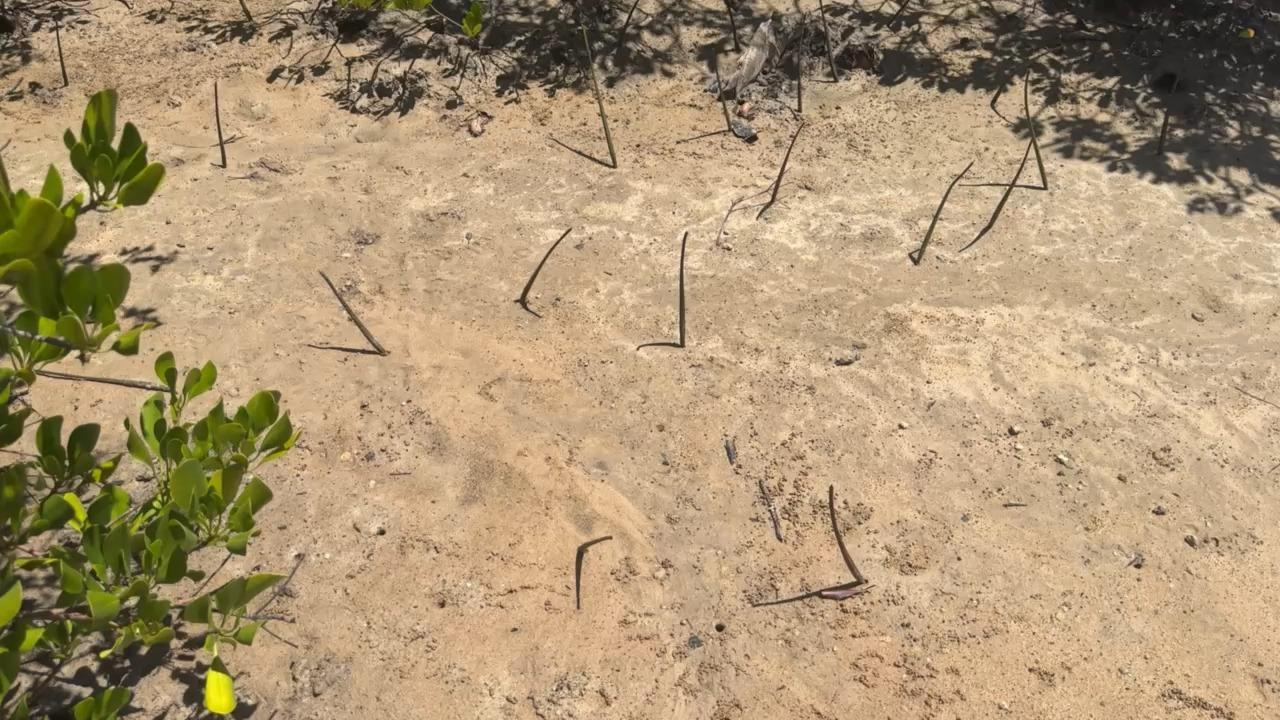Tree: (316, 268, 389, 356), (914, 161, 976, 264), (579, 20, 619, 170), (989, 45, 1065, 109), (518, 227, 573, 305), (828, 483, 869, 585), (770, 122, 806, 205), (1025, 67, 1049, 191), (1155, 62, 1184, 157), (711, 45, 735, 132), (819, 0, 841, 83), (678, 231, 691, 349), (214, 79, 228, 169), (617, 0, 639, 57), (53, 15, 69, 88), (797, 11, 808, 114), (725, 0, 741, 54), (578, 535, 613, 553), (237, 0, 254, 23)
